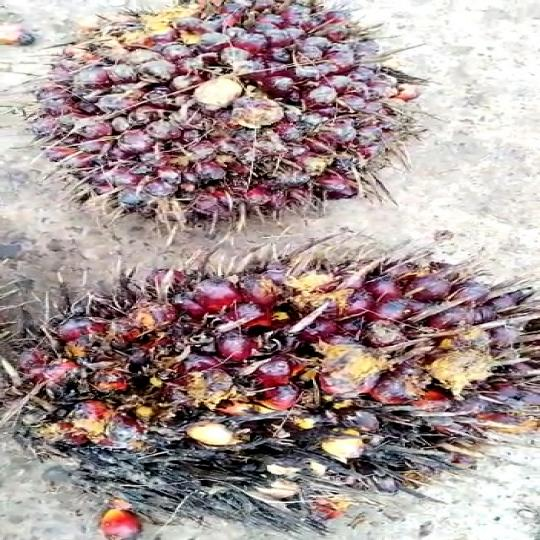masak: (24, 243, 532, 526), (30, 0, 412, 224)
